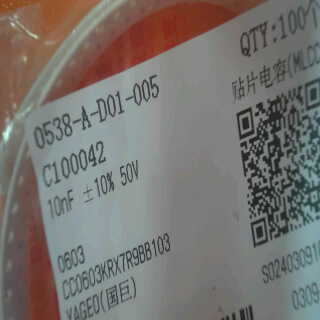10nF: (45, 187, 80, 220)
